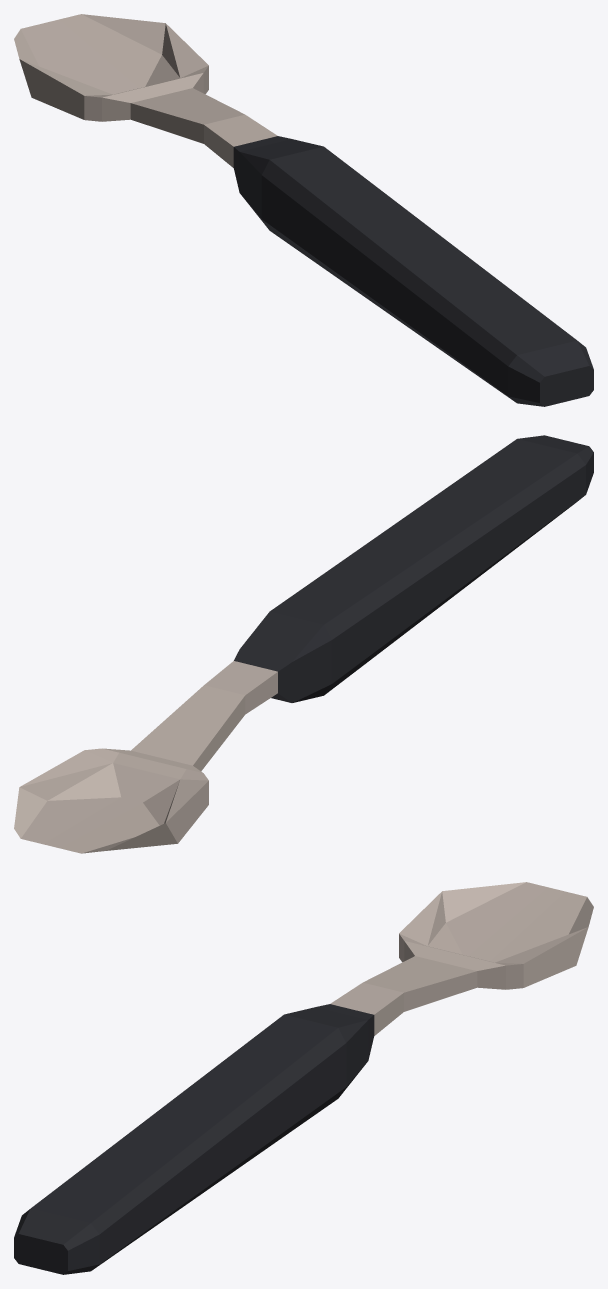
File: SM_Spoon.glb
3 renders of one model, top to bottom at view 1: azimuth 30°, elevation 25°; view 2: azimuth 150°, elevation 25°; view 3: azimuth 330°, elevation 25°, orthographic.
Visible parts, largest first — view 1: SM_Spoon; view 2: SM_Spoon; view 3: SM_Spoon.
Part boxes in pixels (x1,y1,x2,y2): SM_Spoon: (14, 14, 593, 406); SM_Spoon: (14, 435, 593, 853); SM_Spoon: (14, 882, 593, 1274).
Size of the model in its own units: 0.0301 by 0.0139 by 0.1835.
Materials: 1 (1 with a texture image).
